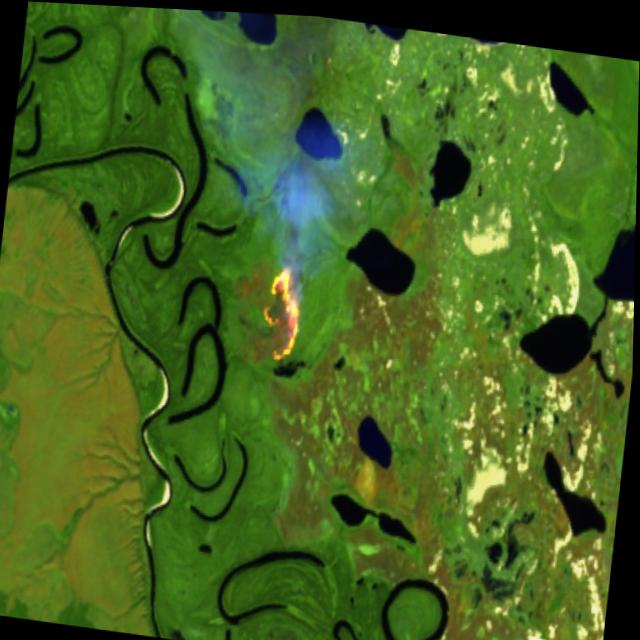fire: (251, 257, 316, 365)
